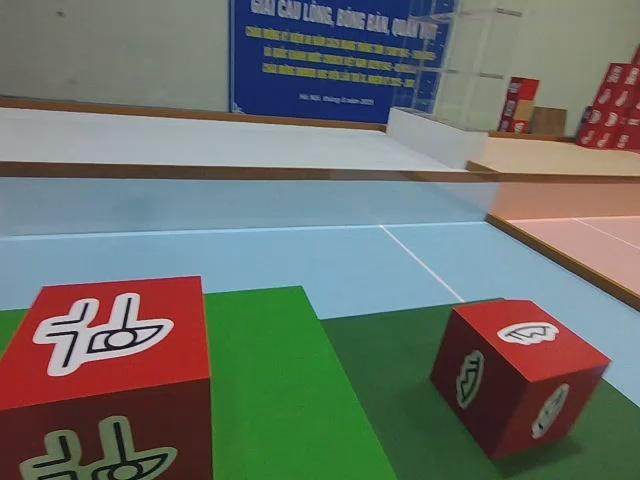R2 Real: (0, 270, 217, 480), (428, 295, 612, 465)
